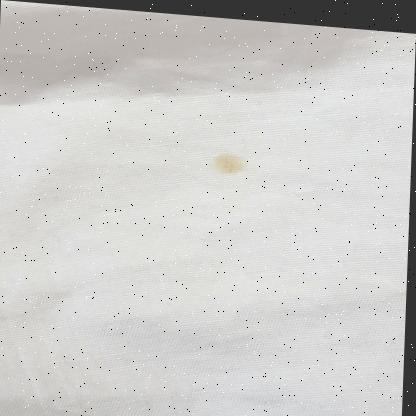spot: (205, 137, 246, 177)
